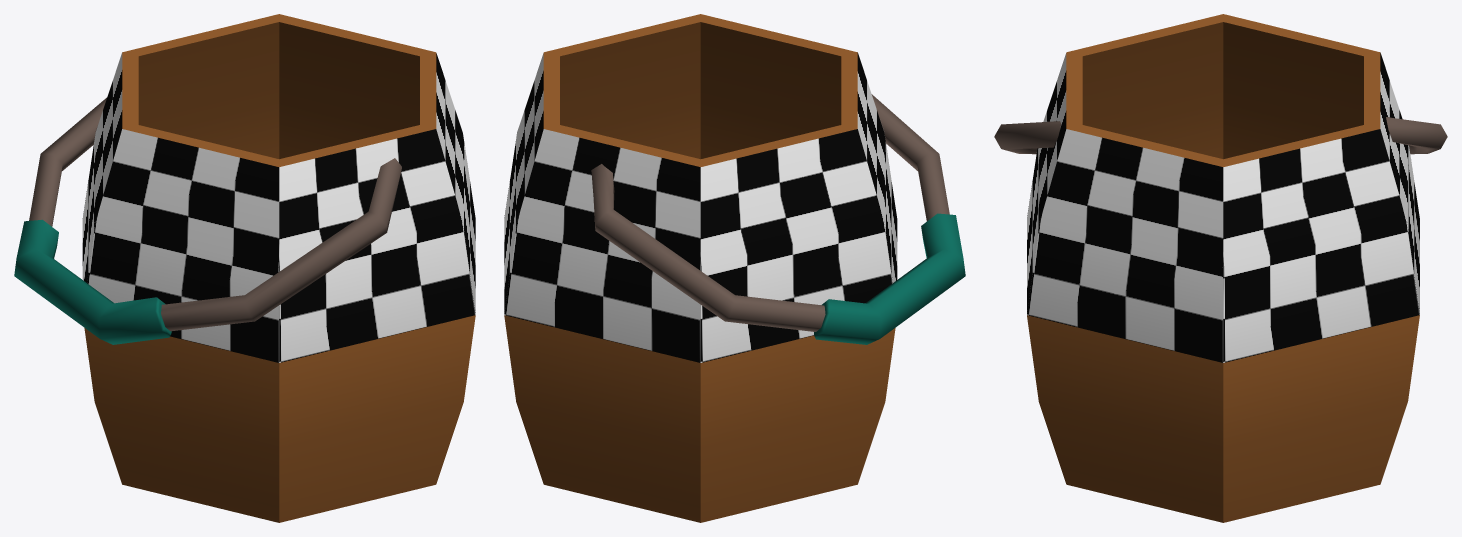
The model's file is Finish_Box.fbx.
3 views of the same model, side by side, from view 1: azimuth 30°, elevation 25°; view 2: azimuth 150°, elevation 25°; view 3: azimuth 270°, elevation 25° (orthographic).
Parts seen in each view (by area): view 1: Finish_Box5; view 2: Finish_Box5; view 3: Finish_Box5.
Boxes of the visible parts, left/top/right/bottom form: Finish_Box5: left=14, top=14, right=475, bottom=522; Finish_Box5: left=504, top=14, right=965, bottom=522; Finish_Box5: left=994, top=14, right=1447, bottom=522.
Bounding box in the file's own units: 3.06 × 2.49 × 2.88.
5 materials, 1 textured.
